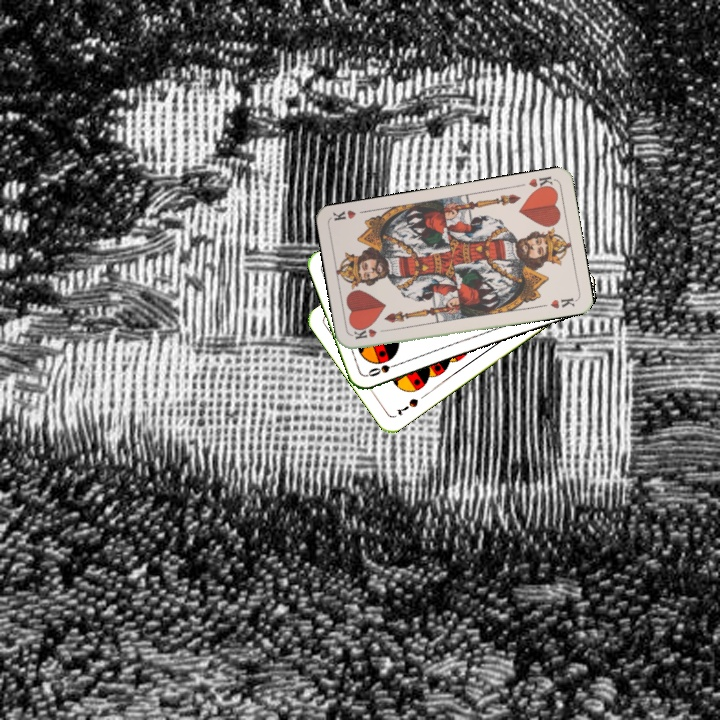HK: (524, 172, 556, 195), (350, 325, 390, 342)
S7: (392, 394, 421, 418)
SO: (363, 359, 403, 379)
